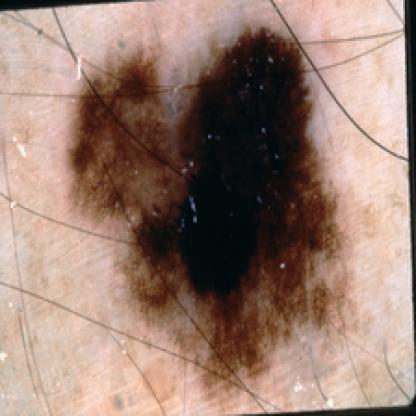malignant: (89, 31, 329, 353)
